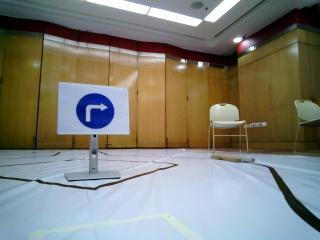right: (59, 85, 128, 134)
